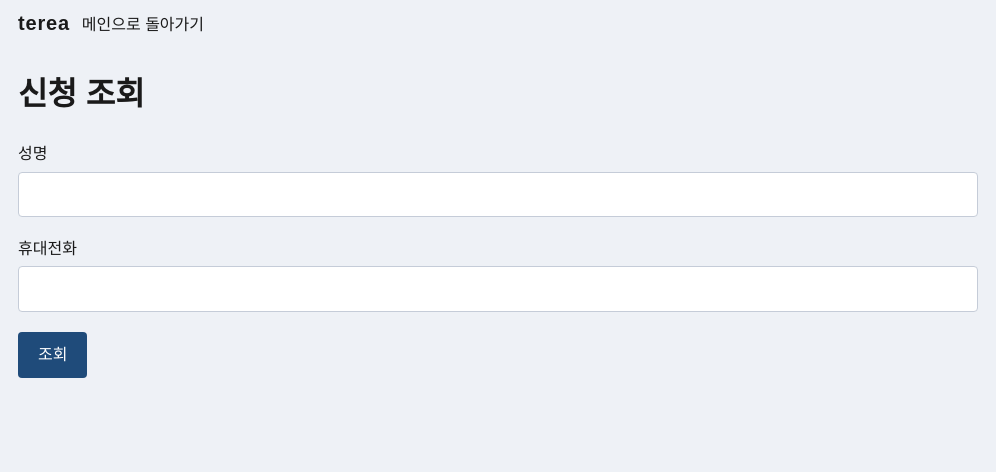
Test: R16: 방문 신청 조회 텍스트 대비 › 라이트 테마 조회 결과 성명·상태가 렌더된다
The image size is (996, 472).
Type "terea방문테스터" into the field labelled "성명" at (498, 194), box [18,172,978,217]
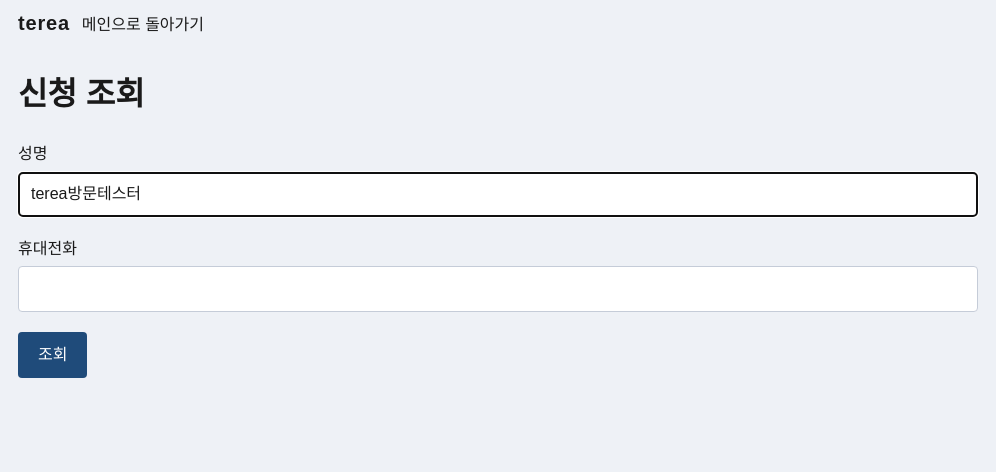
Type "01022223333" into the field labelled "휴대전화" at (498, 289), box [18,266,978,312]
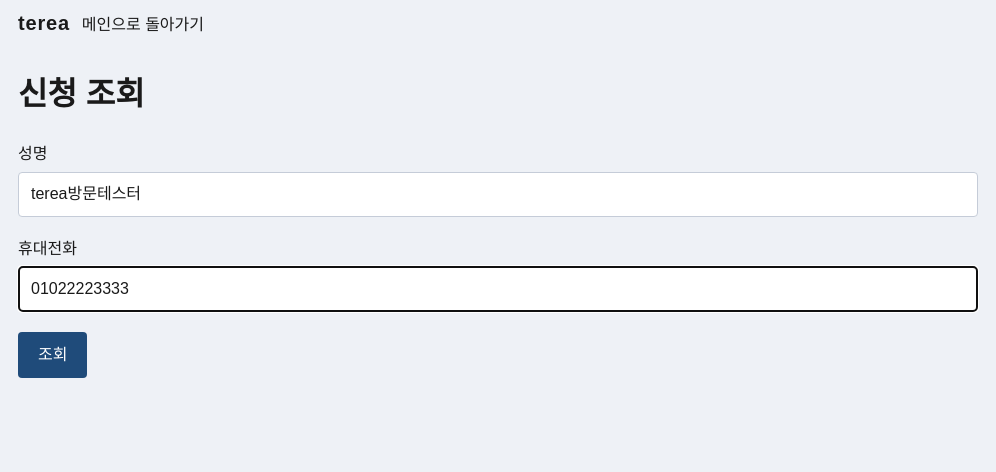
Click the button "조회" at (53, 355), box [18,332,88,378]
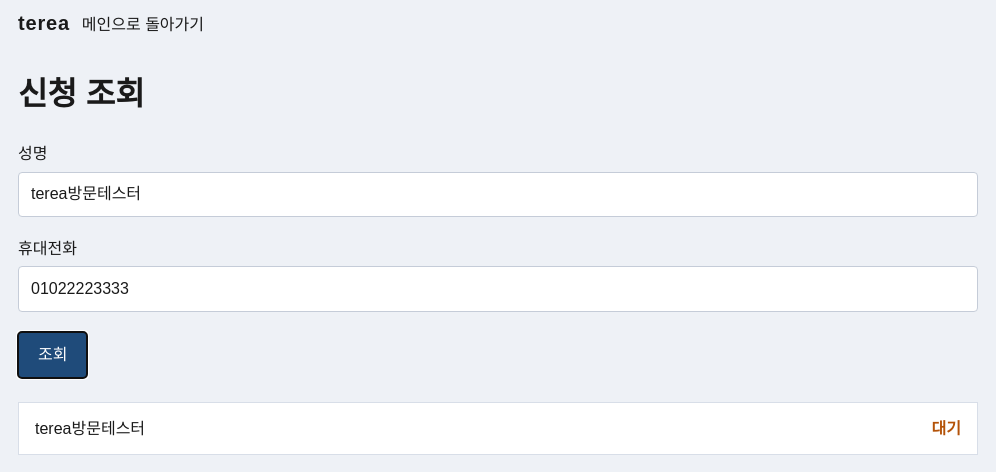
Check: the text "terea방문테스터" is shown, box [35,416,145,440]
Check: the text "대기" is shown, box [932,416,961,440]
